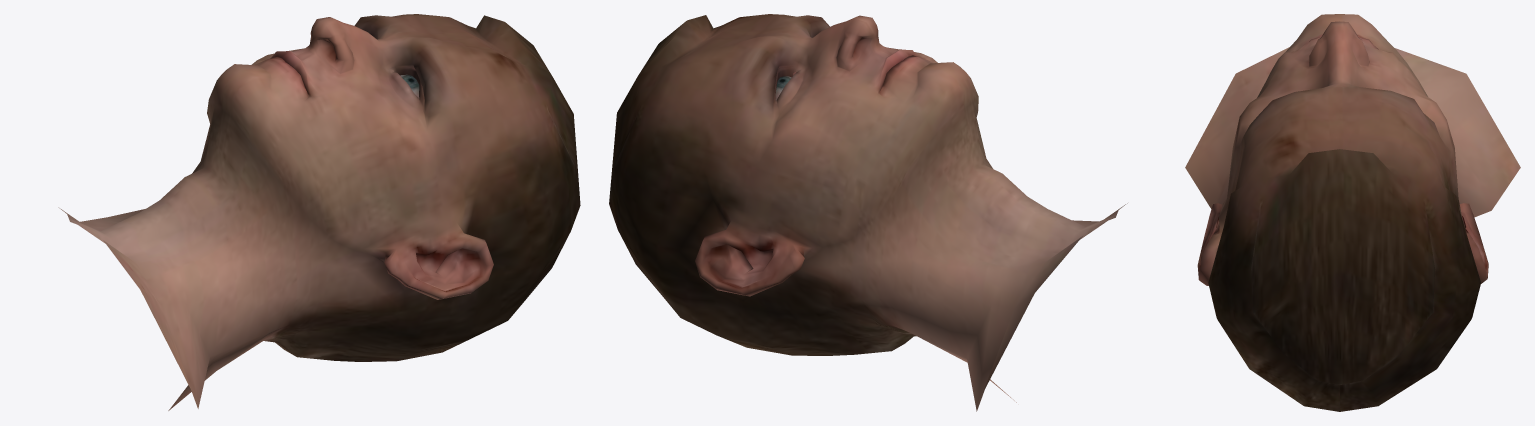
Rendered from head_german_normandy_eric.glb.
3 views of the same model, side by side, from view 1: azimuth 30°, elevation 25°; view 2: azimuth 150°, elevation 25°; view 3: azimuth 270°, elevation 25° (orthographic). The views are drawn at different scales.
Size of the model in its own units: 14.8 by 10.07 by 9.35.
1 material, 1 textured.
